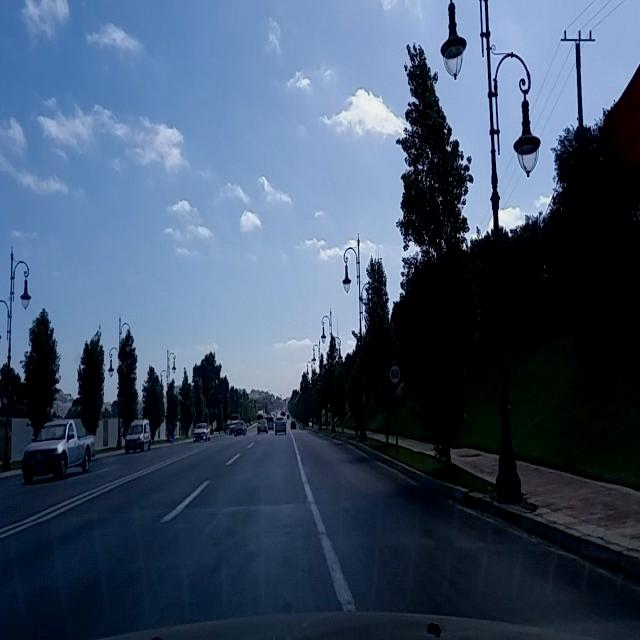car: (21, 418, 93, 484), (125, 418, 151, 454), (194, 421, 211, 442), (274, 415, 286, 435), (256, 416, 268, 435), (234, 419, 246, 436), (267, 416, 274, 432), (291, 418, 297, 431)
